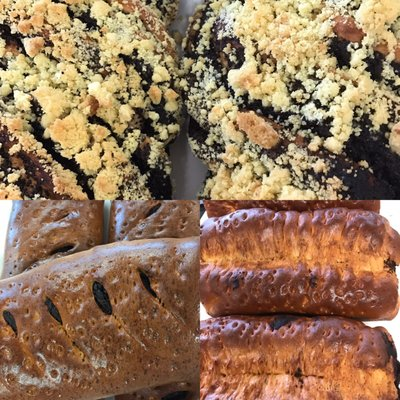soup: (198, 205, 400, 321)
